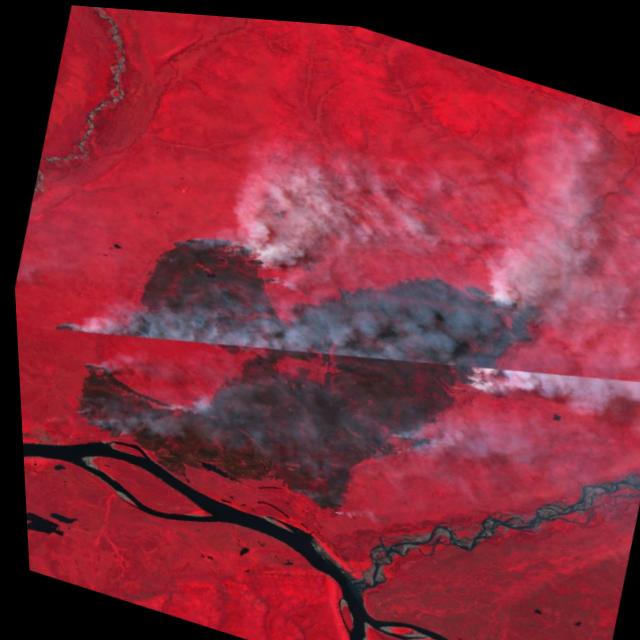fire: (11, 146, 566, 577)
